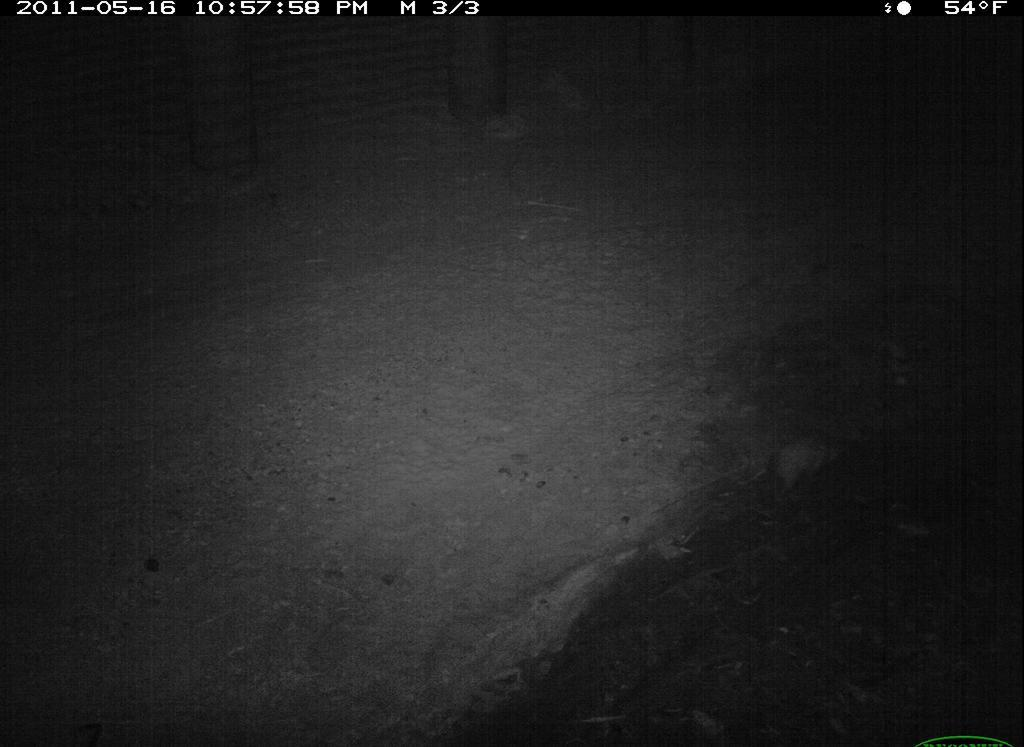opossum: (724, 425, 863, 504)
